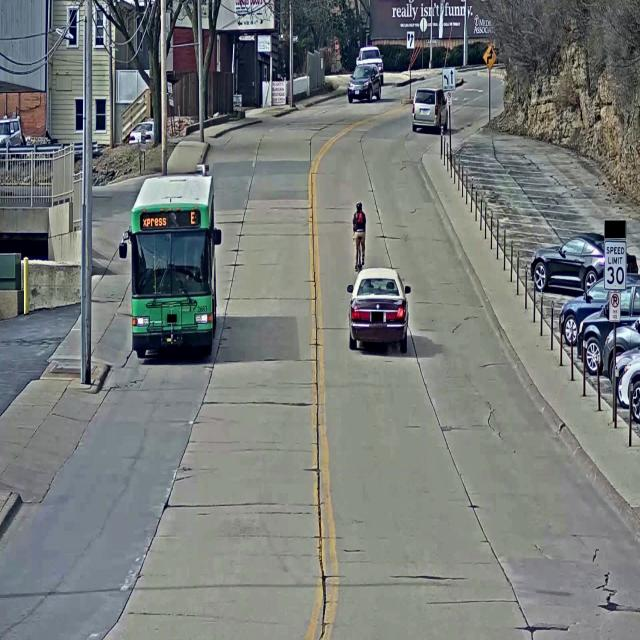bicycle: (354, 236, 364, 273)
car: (130, 177, 221, 359), (530, 233, 638, 294), (577, 279, 640, 376), (559, 274, 640, 346), (347, 268, 411, 354), (602, 315, 640, 385), (611, 346, 640, 409), (412, 87, 448, 133), (621, 354, 640, 424), (348, 64, 381, 104), (356, 47, 384, 86), (0, 117, 25, 160), (129, 123, 154, 145)
person: (352, 202, 367, 270)
